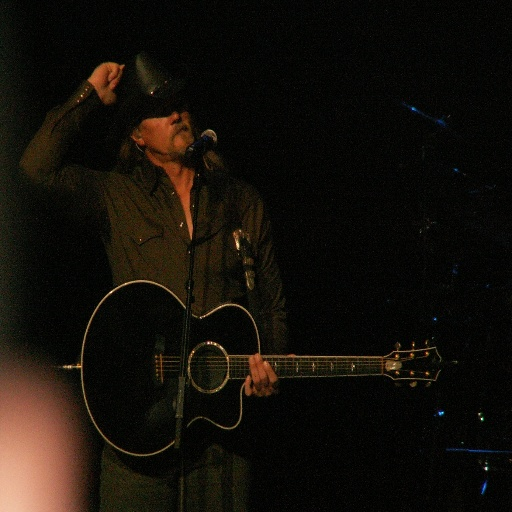hand: (244, 353, 295, 400), (92, 59, 125, 106)
